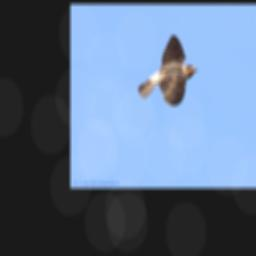Swallow: (137, 33, 200, 107)
